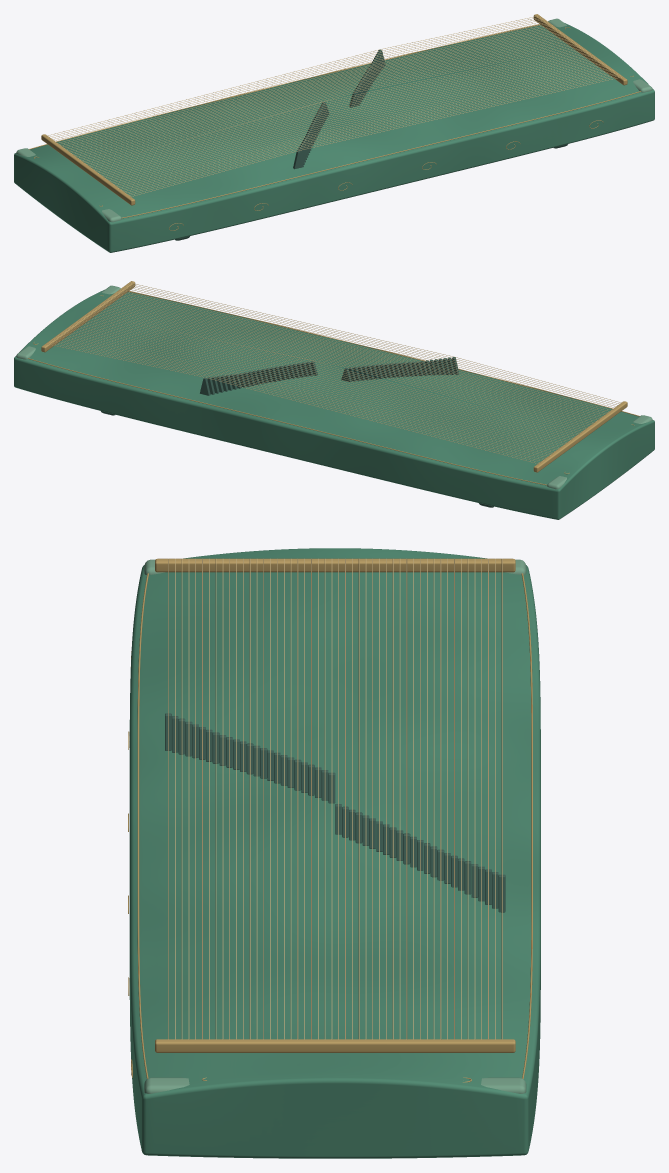
File: jinse-v6.glb
The picture shows the model from 3 angles, top to bottom: view 1: azimuth 30°, elevation 25°; view 2: azimuth 150°, elevation 25°; view 3: azimuth 270°, elevation 25°; orthographic projection. The views are drawn at different scales.
Visible parts, largest first — view 1: Jinse_Carved_Soundbox, Transverse_Rail_-1, Transverse_Rail_1, Fine_Gold_Edge_-1, Fine_Gold_Edge_1, String_22, String_45, String_04, String_32, String_36, String_02, String_06 (+43 smaller); view 2: Jinse_Carved_Soundbox, Transverse_Rail_-1, Transverse_Rail_1, Fine_Gold_Edge_1, Fine_Gold_Edge_-1, String_05, String_17, String_22, String_29, String_49, String_02, String_04 (+43 smaller); view 3: Jinse_Carved_Soundbox, Transverse_Rail_-1, Transverse_Rail_1, Fine_Gold_Edge_-1, Jade_Endband_1, Fine_Gold_Edge_1, String_03, String_04, String_08, String_09, String_13, String_14 (+14 smaller).
Boxes of the visible parts, x1=… form: Jinse_Carved_Soundbox: x1=14, y1=23, x2=654, y2=252; Transverse_Rail_-1: x1=41, y1=134, x2=135, y2=205; Transverse_Rail_1: x1=533, y1=14, x2=627, y2=85; Fine_Gold_Edge_-1: x1=121, y1=91, x2=640, y2=218; Fine_Gold_Edge_1: x1=29, y1=24, x2=540, y2=149; String_22: x1=94, y1=50, x2=586, y2=170; String_45: x1=55, y1=22, x2=547, y2=142; String_04: x1=125, y1=73, x2=616, y2=193; String_32: x1=77, y1=38, x2=569, y2=158; String_36: x1=70, y1=33, x2=562, y2=153; String_02: x1=128, y1=75, x2=620, y2=195; String_06: x1=121, y1=70, x2=613, y2=190; Jinse_Carved_Soundbox: x1=14, y1=289, x2=654, y2=519; Transverse_Rail_-1: x1=533, y1=401, x2=627, y2=472; Transverse_Rail_1: x1=41, y1=281, x2=135, y2=352; Fine_Gold_Edge_1: x1=28, y1=358, x2=547, y2=485; Fine_Gold_Edge_-1: x1=128, y1=291, x2=639, y2=416; String_05: x1=123, y1=287, x2=615, y2=407; String_17: x1=103, y1=302, x2=594, y2=422; String_22: x1=94, y1=309, x2=586, y2=429; String_29: x1=82, y1=317, x2=574, y2=437; String_49: x1=48, y1=342, x2=540, y2=462; String_02: x1=128, y1=284, x2=620, y2=404; String_04: x1=125, y1=286, x2=616, y2=406; Jinse_Carved_Soundbox: x1=129, y1=548, x2=540, y2=1158; Transverse_Rail_-1: x1=155, y1=558, x2=515, y2=572; Transverse_Rail_1: x1=155, y1=1039, x2=515, y2=1052; Fine_Gold_Edge_-1: x1=137, y1=573, x2=148, y2=1078; Jade_Endband_1: x1=144, y1=1077, x2=526, y2=1093; Fine_Gold_Edge_1: x1=521, y1=573, x2=532, y2=1078; String_03: x1=181, y1=559, x2=182, y2=1039; String_04: x1=188, y1=559, x2=189, y2=1039; String_08: x1=215, y1=559, x2=216, y2=1039; String_09: x1=222, y1=559, x2=223, y2=1039; String_13: x1=249, y1=559, x2=250, y2=1039; String_14: x1=256, y1=559, x2=257, y2=1039.
Size of the model in its own units: 13 by 1.55 by 4.26.
